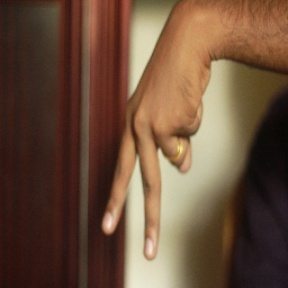Y: (94, 74, 208, 263)
